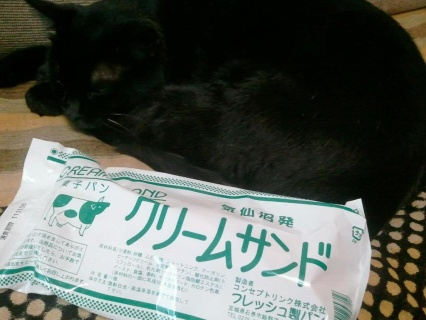Cat: (20, 0, 426, 244)
